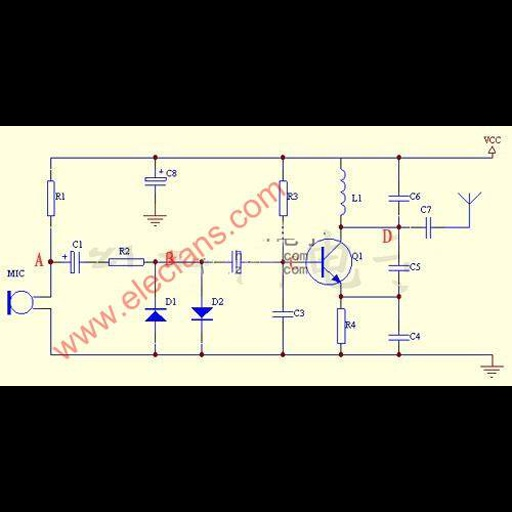capacitor: (266, 307, 294, 324), (384, 330, 410, 347), (384, 260, 410, 276), (421, 217, 439, 239), (385, 193, 410, 207)
firstdiode: (141, 304, 168, 327), (187, 305, 216, 325)
firstpolarcapacitor: (57, 249, 87, 276)
firstresistance: (274, 177, 289, 220), (105, 256, 145, 270), (333, 305, 346, 347), (43, 178, 55, 219)
inductor: (337, 165, 347, 219)
npn: (312, 242, 343, 283)
